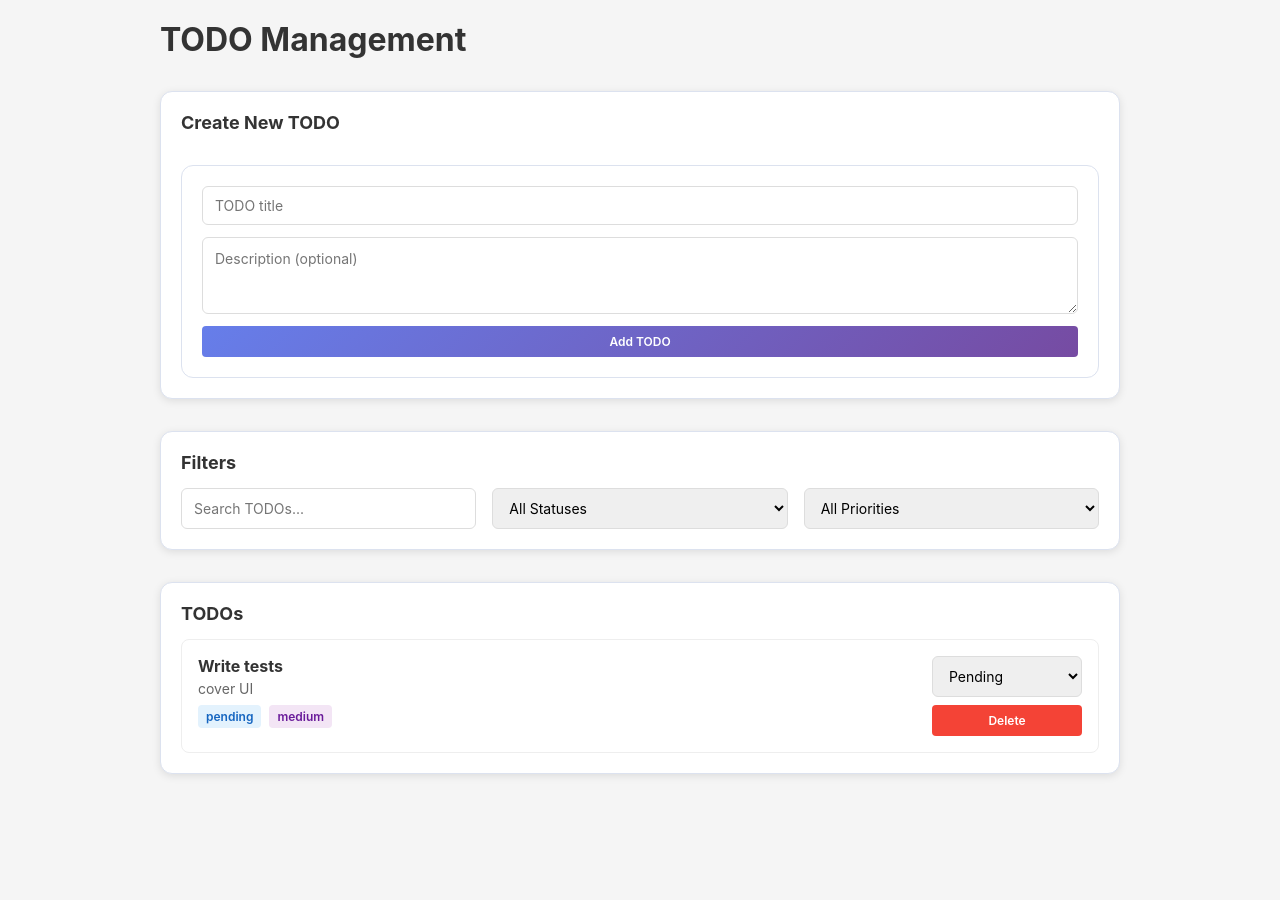
Test: Todos page › deletes a todo after confirmation
Click the button with test id "todo-delete-button-t1": (1007, 720) [932, 705, 1082, 736]
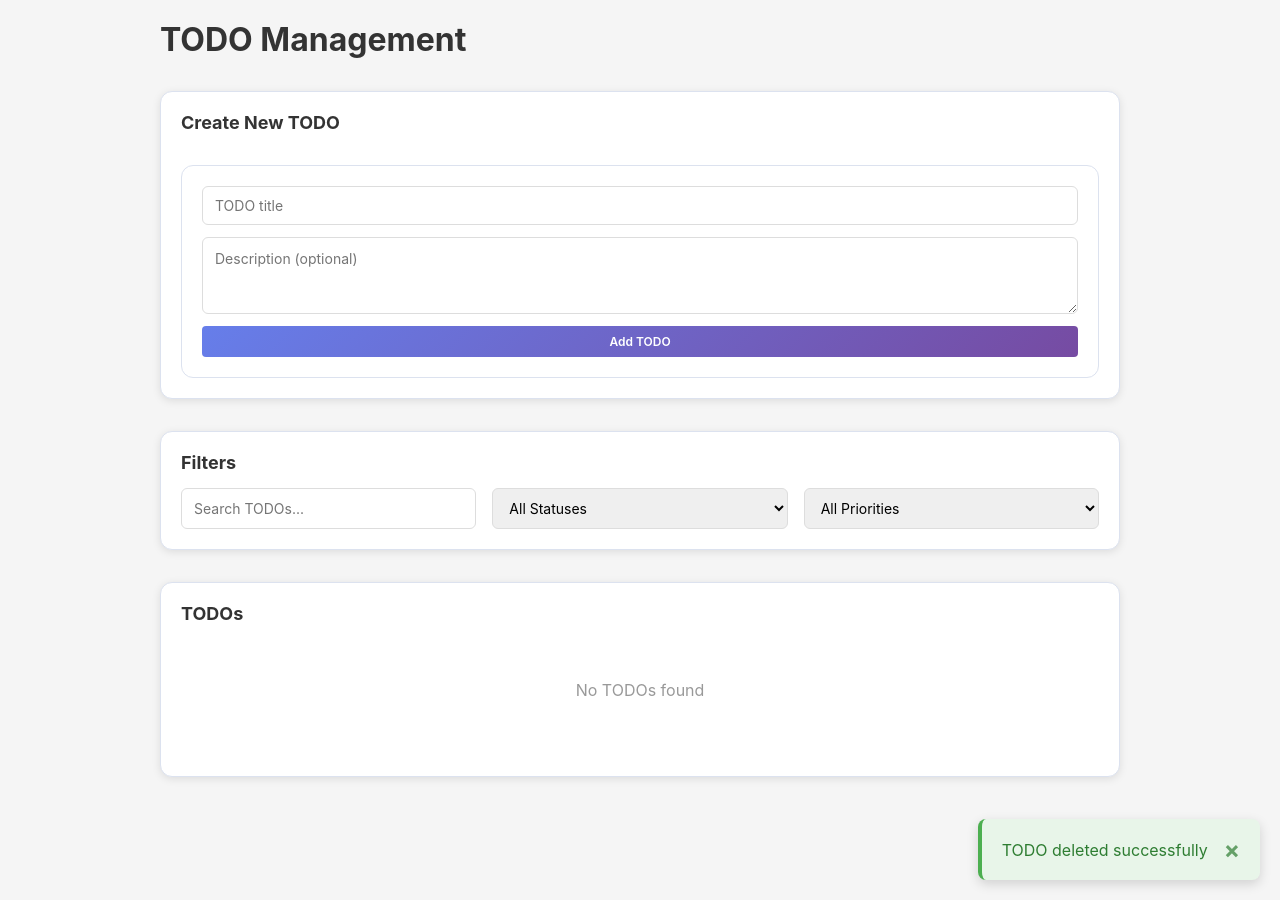
expect the text "No TODOs found" is shown: met, box [576, 680, 704, 700]
expect the message with test id "toast" shows "TODO deleted successfully": met, box [1002, 840, 1208, 860]
